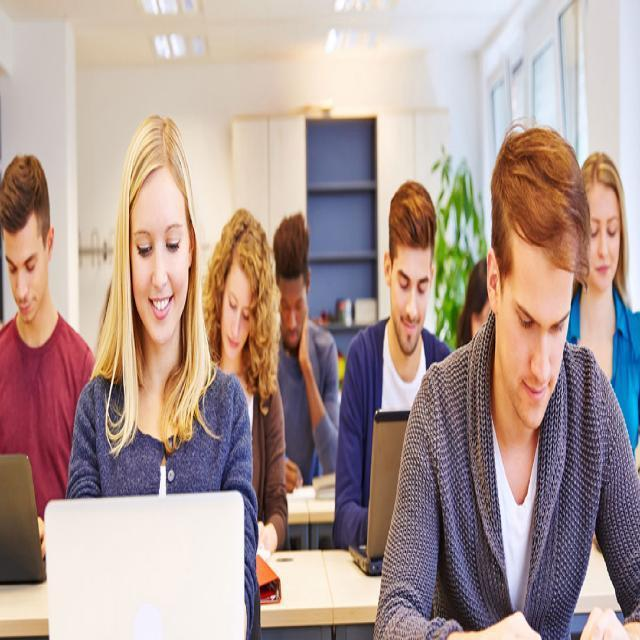Looking away: (494, 220, 572, 430), (128, 168, 189, 344), (0, 210, 50, 324), (388, 238, 432, 357), (220, 258, 256, 366), (584, 180, 620, 286), (277, 268, 308, 354)
